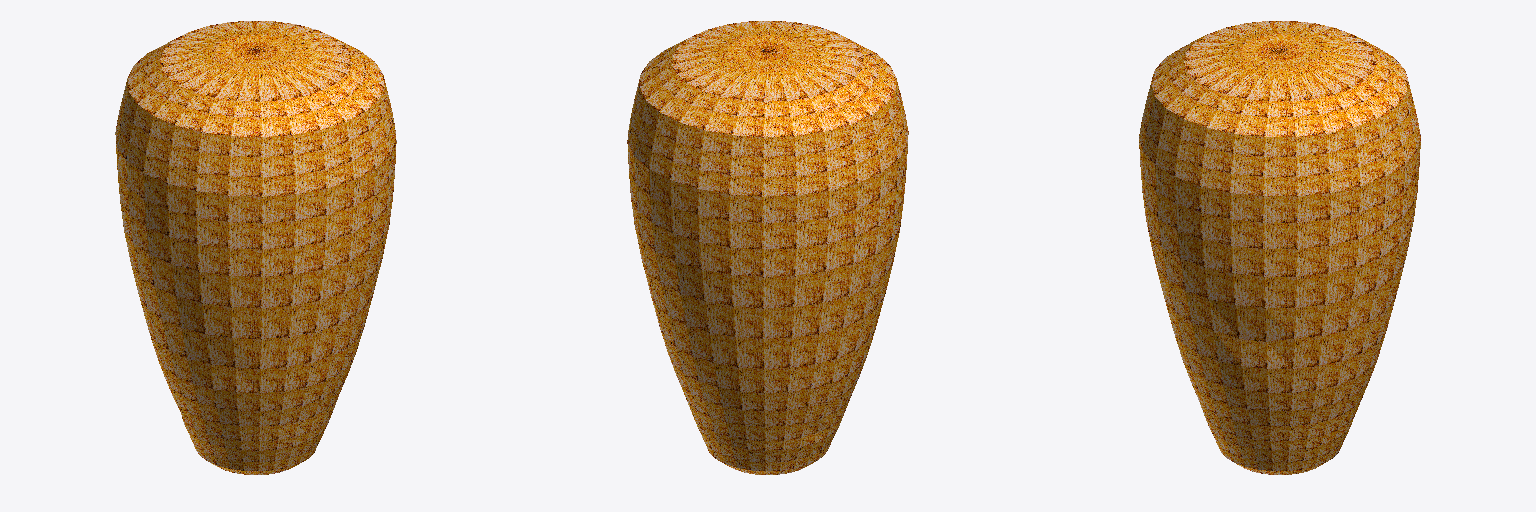
The picture shows the model from 3 angles: view 1: azimuth 30°, elevation 25°; view 2: azimuth 150°, elevation 25°; view 3: azimuth 270°, elevation 25°; orthographic projection.
Visible parts, largest first — view 1: Cylinder_Cylinder.002; view 2: Cylinder_Cylinder.002; view 3: Cylinder_Cylinder.002.
Boxes of the visible parts, x1=… form: Cylinder_Cylinder.002: x1=115, y1=21, x2=396, y2=474; Cylinder_Cylinder.002: x1=627, y1=21, x2=908, y2=474; Cylinder_Cylinder.002: x1=1139, y1=21, x2=1420, y2=474.
Bounding box in the file's own units: 119 × 192 × 120.
Materials: 1 (1 with a texture image).